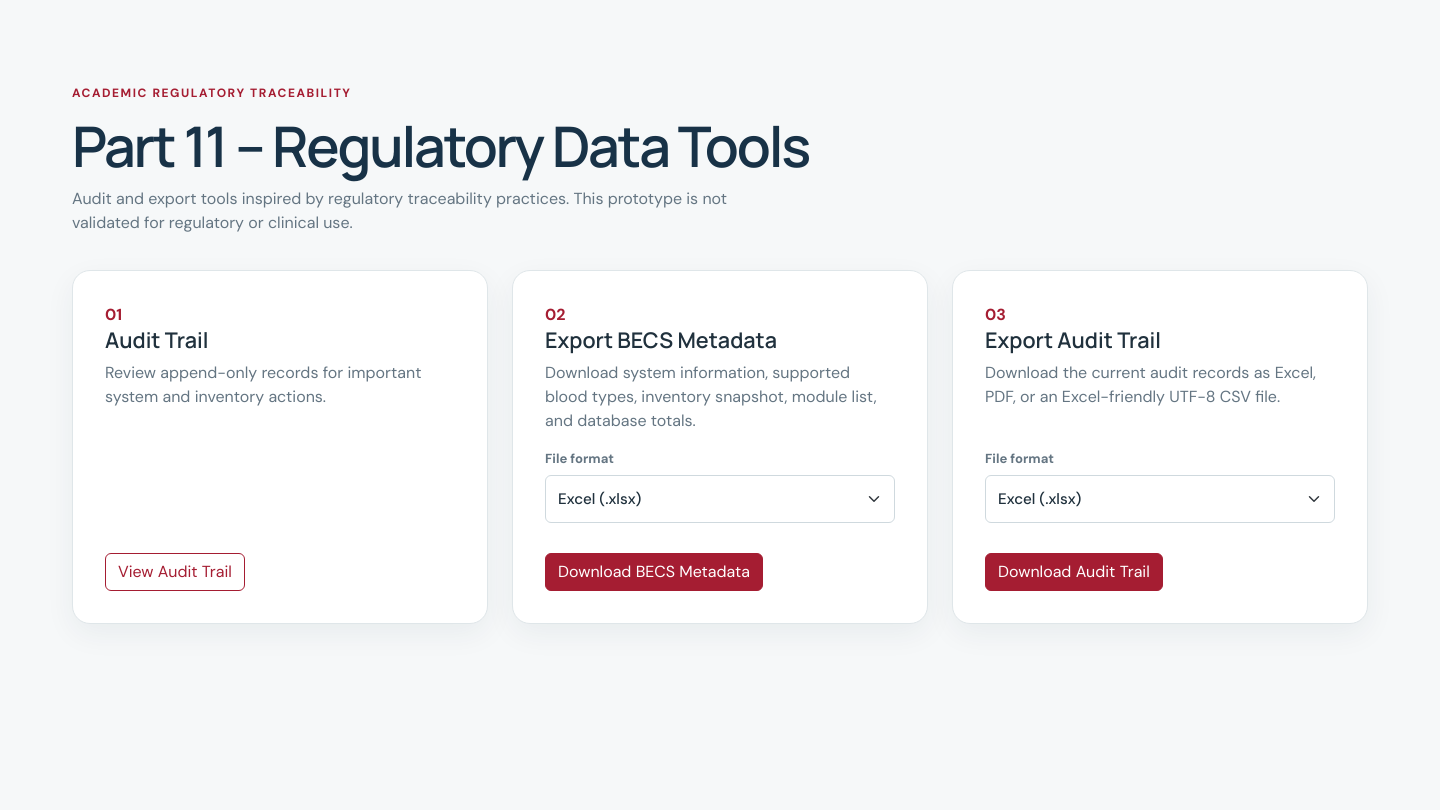
Test: failed export shows error
Click the button "Download BECS Metadata" at (654, 572), box x1=545 y1=553 x2=763 y2=591
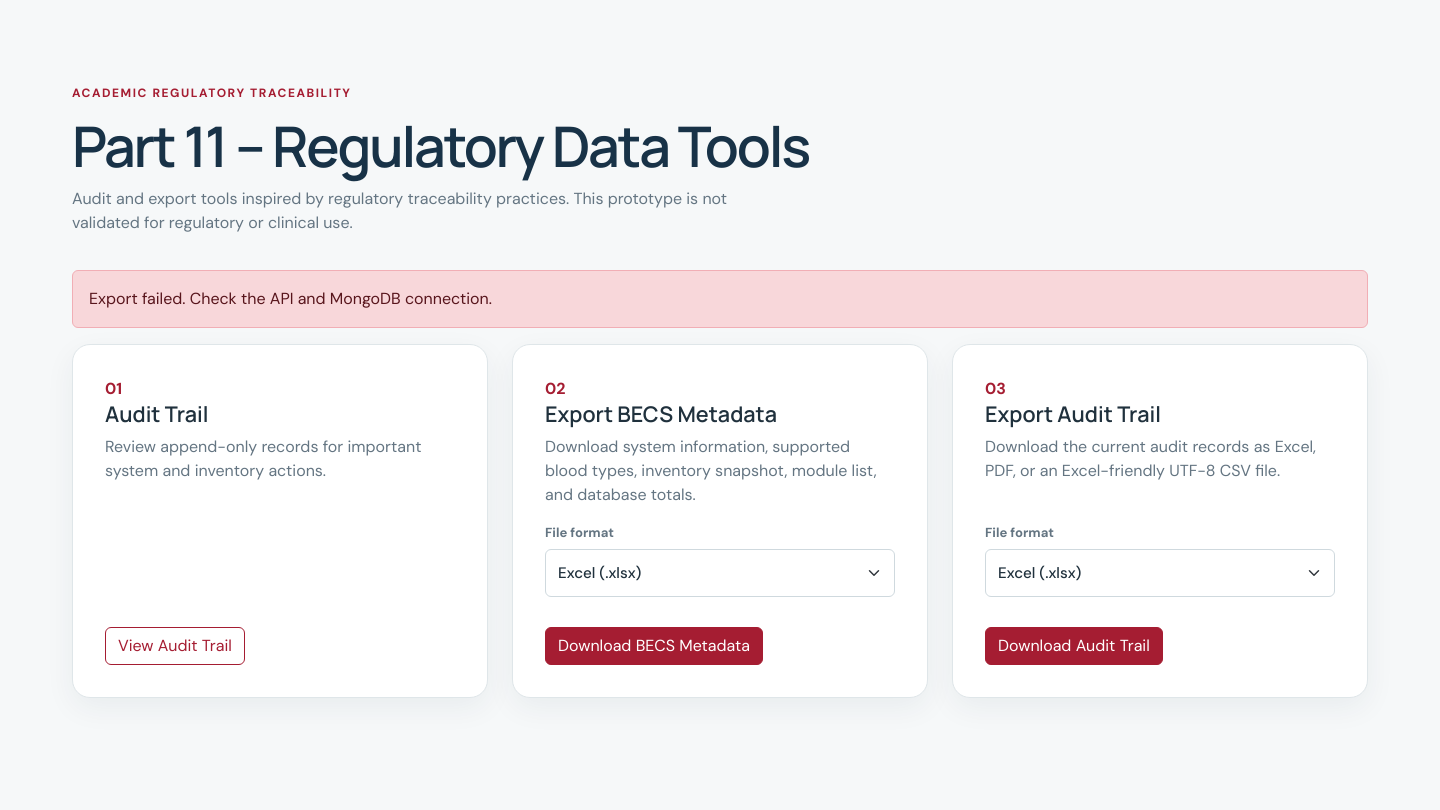
Expected: the message shows "Export failed", x1=89 y1=288 x2=492 y2=309
